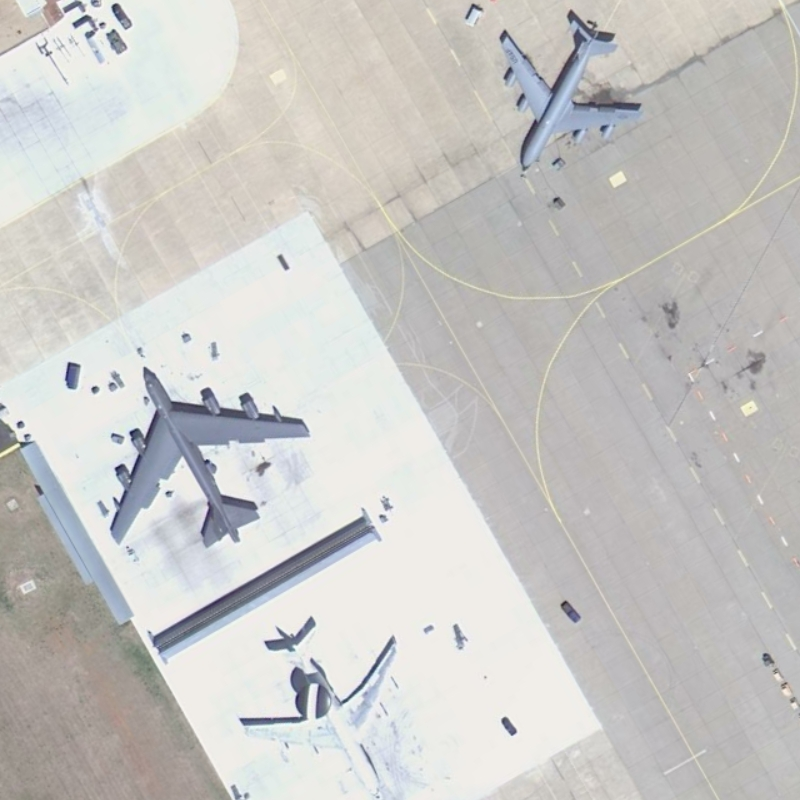A14: (492, 11, 650, 178)
A7: (237, 613, 404, 800)
A8: (103, 360, 313, 560)
